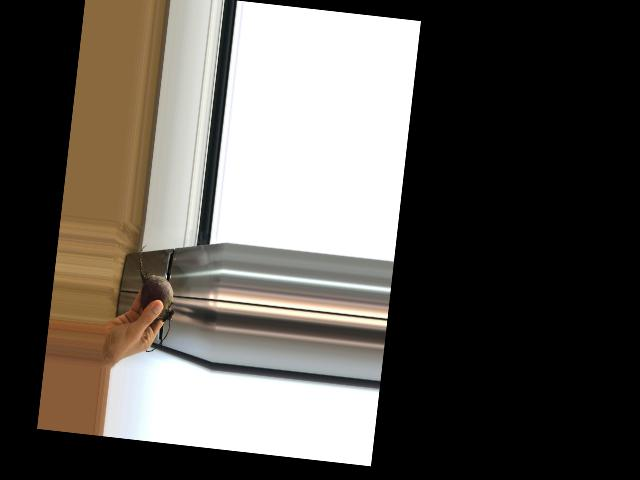beet: (129, 242, 180, 353)
